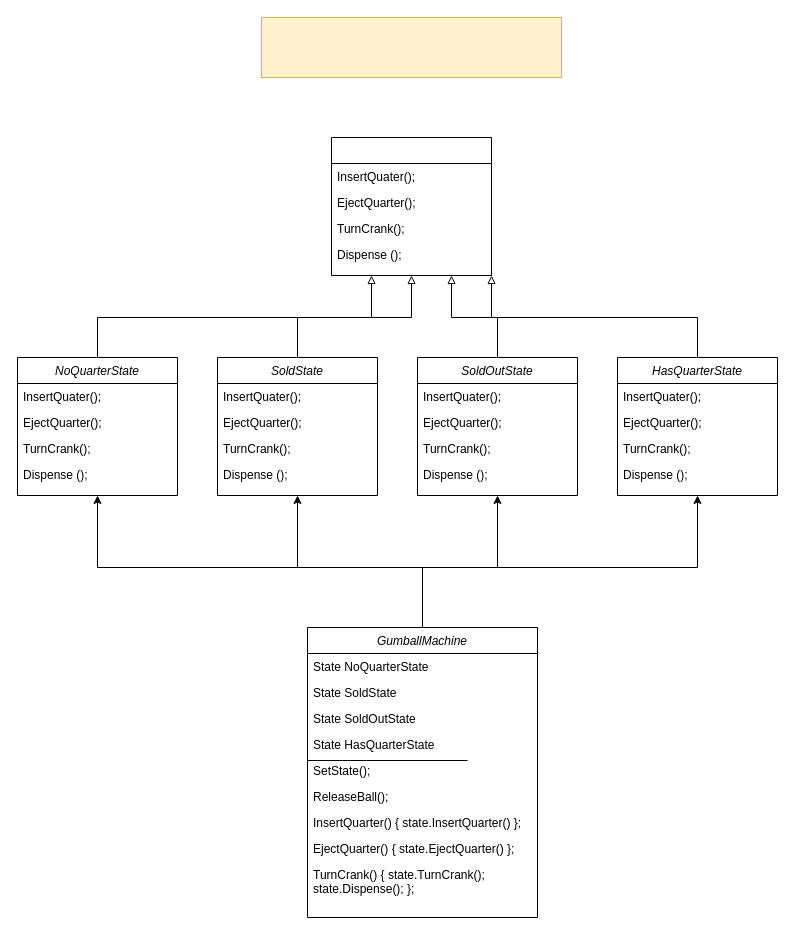
Image size: 795x938. Some labels were removed from this diagram. The box of each missing label's shape, as (x1, y1, x2, y2) in pixels:
State: (330, 136, 492, 276)
The State Pattern: (260, 16, 562, 78)
